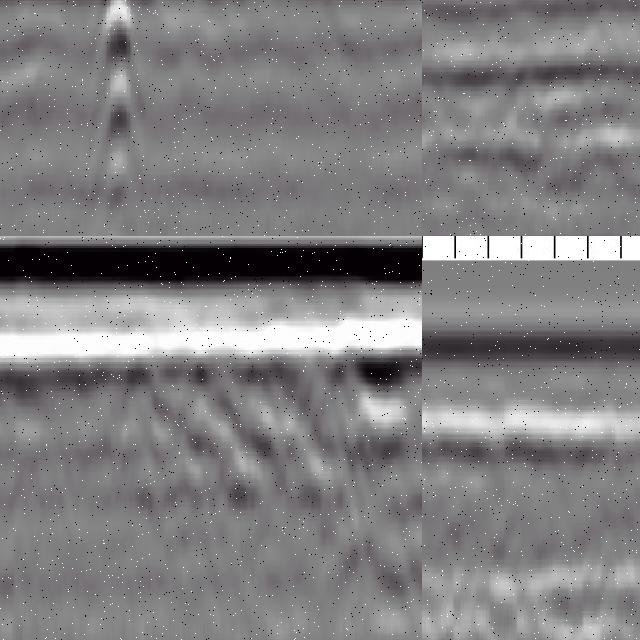crack: (99, 1, 134, 237)
loose: (129, 363, 423, 514)
